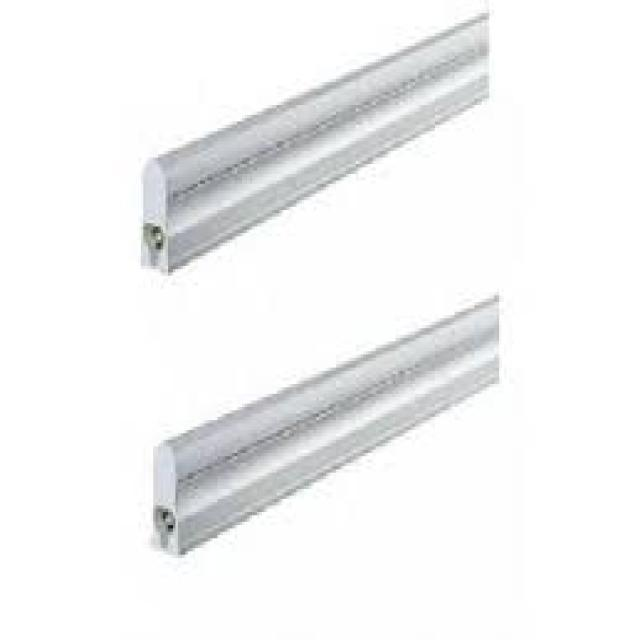tubelight_off: (133, 9, 505, 285), (149, 289, 510, 565)
